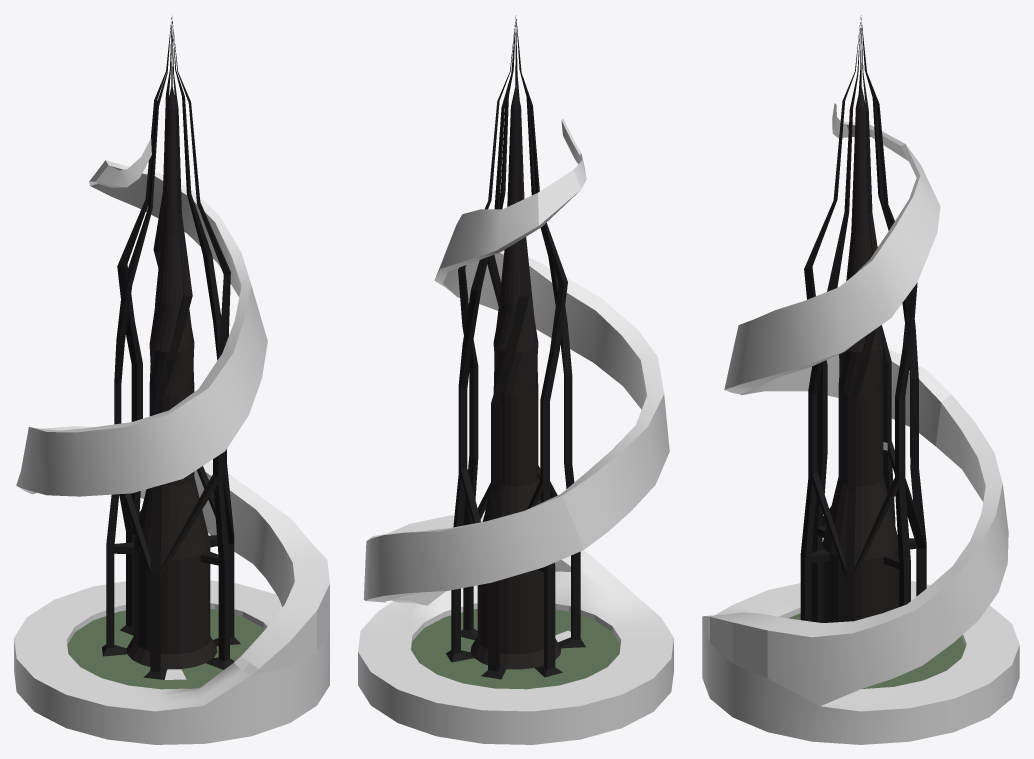
File: Spiral_building.fbx
3 renders of one model, left to right at view 1: azimuth 30°, elevation 25°; view 2: azimuth 150°, elevation 25°; view 3: azimuth 270°, elevation 25°, orthographic.
Parts seen in each view (by area): view 1: pCylinder3; view 2: pCylinder3; view 3: pCylinder3.
Boxes of the visible parts, <box> form: pCylinder3: <box>14,17,329,744</box>; pCylinder3: <box>358,15,673,744</box>; pCylinder3: <box>702,15,1019,744</box>.
Bounding box in the file's own units: 0.8622 × 1.99 × 0.8622.
